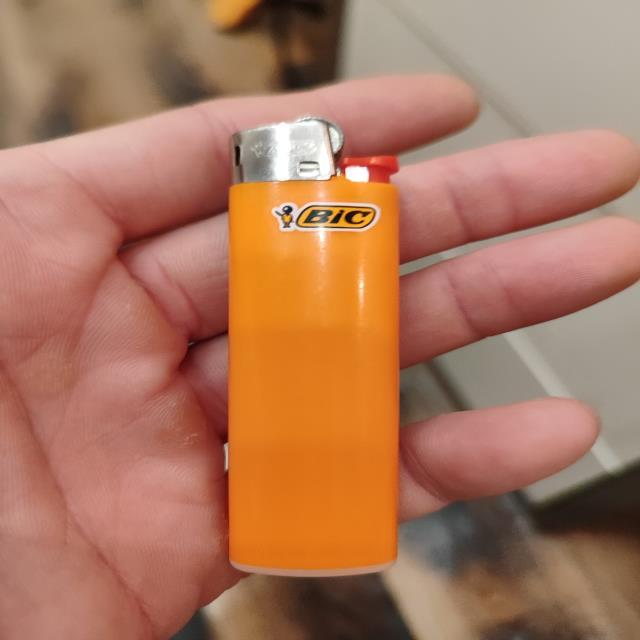lighter: (229, 118, 398, 576)
